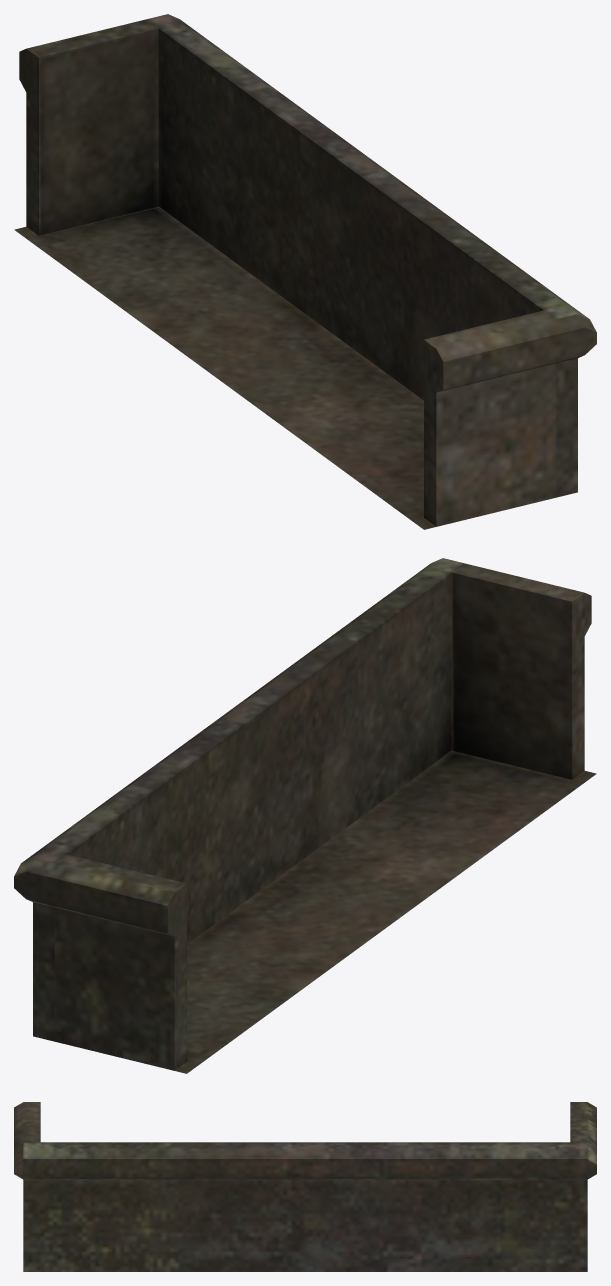
The model's file is BalconyWall.FBX.
The picture shows the model from 3 angles, top to bottom: view 1: azimuth 30°, elevation 25°; view 2: azimuth 150°, elevation 25°; view 3: azimuth 270°, elevation 25°; orthographic projection. The views are drawn at different scales.
Visible parts, largest first — view 1: BalconyWall; view 2: BalconyWall; view 3: BalconyWall.
Boxes of the visible parts, <box> form: BalconyWall: <box>14,14,596,529</box>; BalconyWall: <box>14,558,596,1073</box>; BalconyWall: <box>14,1102,596,1271</box>.
Size of the model in its own units: 112 by 115 by 495.
